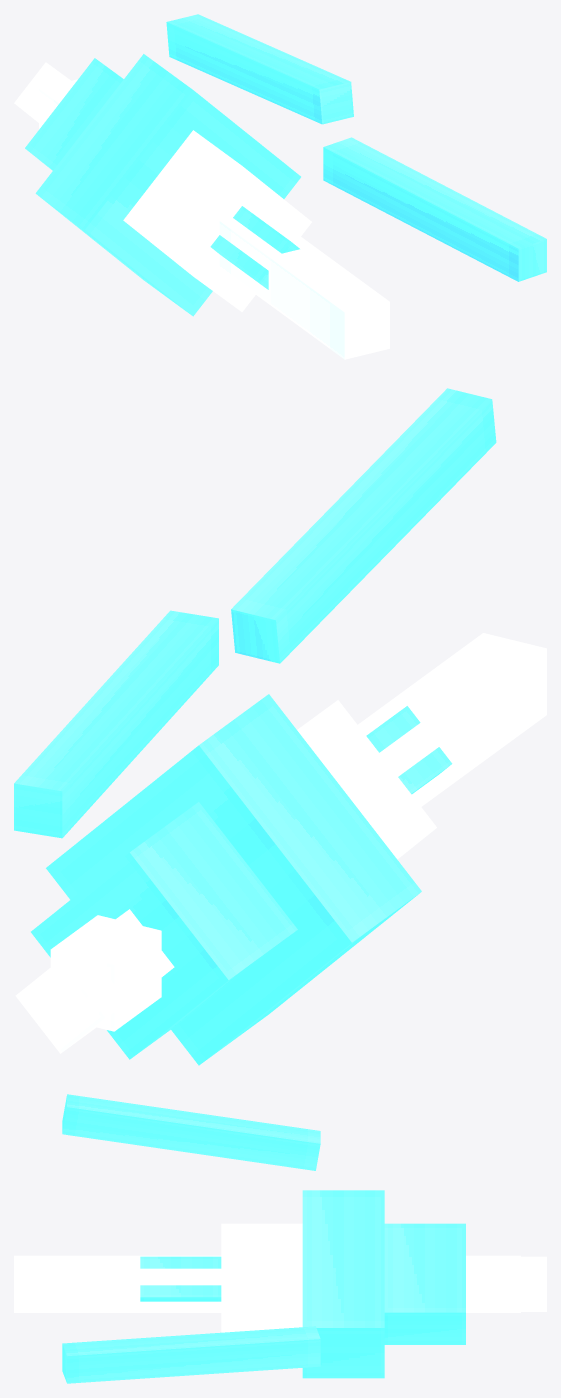
The model's file is tower_shot_blue.gltf.
3 views of the same model, one above another, from view 1: azimuth 30°, elevation 25°; view 2: azimuth 150°, elevation 25°; view 3: azimuth 270°, elevation 25° (orthographic). The views are drawn at different scales.
Parts seen in each view (by area): view 1: core_mesh; view 2: core_mesh; view 3: core_mesh.
Part boxes in pixels (box(x1,y1,x2,y2)): core_mesh: box(14, 14, 546, 359); core_mesh: box(14, 388, 546, 1065); core_mesh: box(14, 1094, 546, 1383).
Bounding box in the file's own units: 0.3775 × 0.3775 × 0.6569.
1 material, 1 textured.
